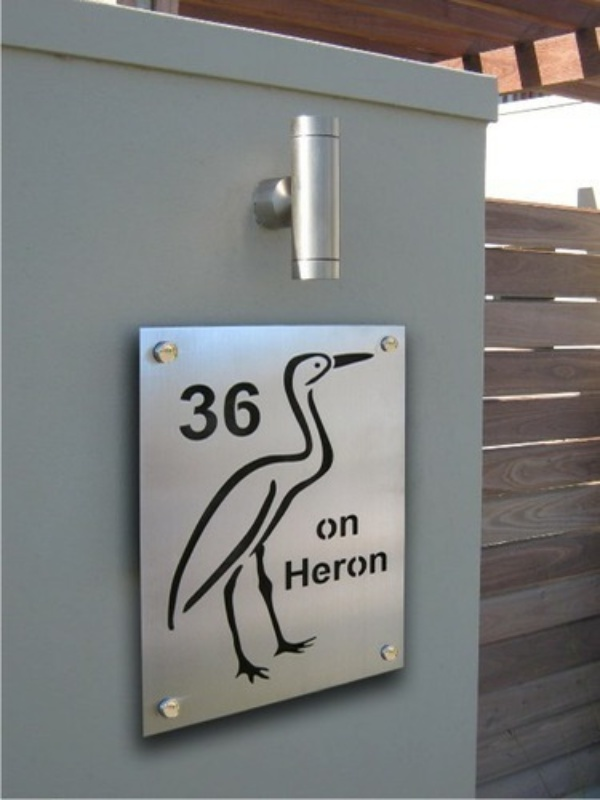text: (177, 380, 192, 442), (193, 380, 208, 442), (209, 380, 224, 442), (225, 380, 240, 442), (241, 380, 256, 442), (289, 541, 304, 593), (305, 541, 320, 593), (321, 541, 336, 593), (337, 541, 352, 593), (353, 541, 368, 593), (369, 541, 384, 593), (321, 511, 336, 543), (337, 511, 352, 543), (385, 541, 391, 593), (353, 511, 361, 543), (257, 380, 261, 442), (285, 541, 288, 593), (316, 511, 320, 543)
